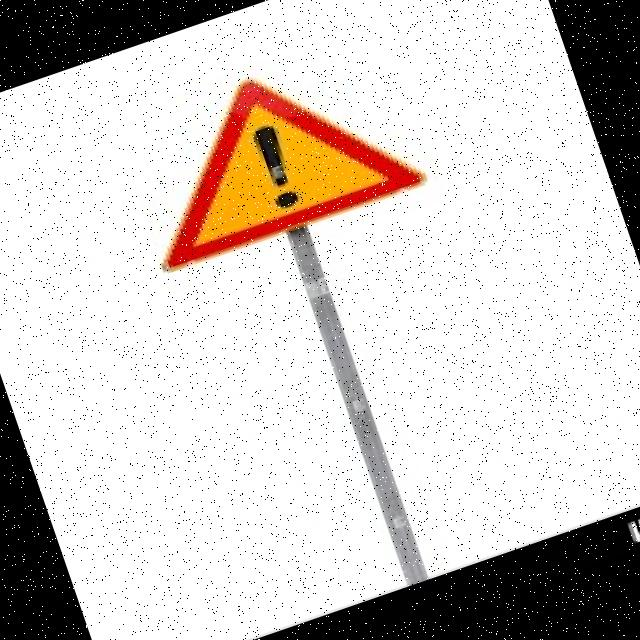warning: (108, 29, 442, 282)
